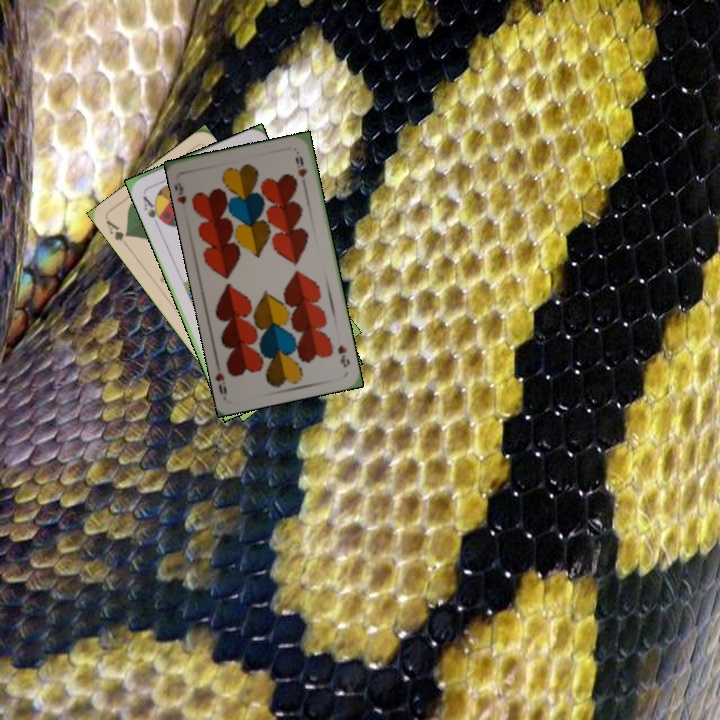GA: (102, 216, 132, 244)
H9: (334, 341, 352, 370), (172, 178, 189, 207)
SA: (139, 189, 166, 225)
